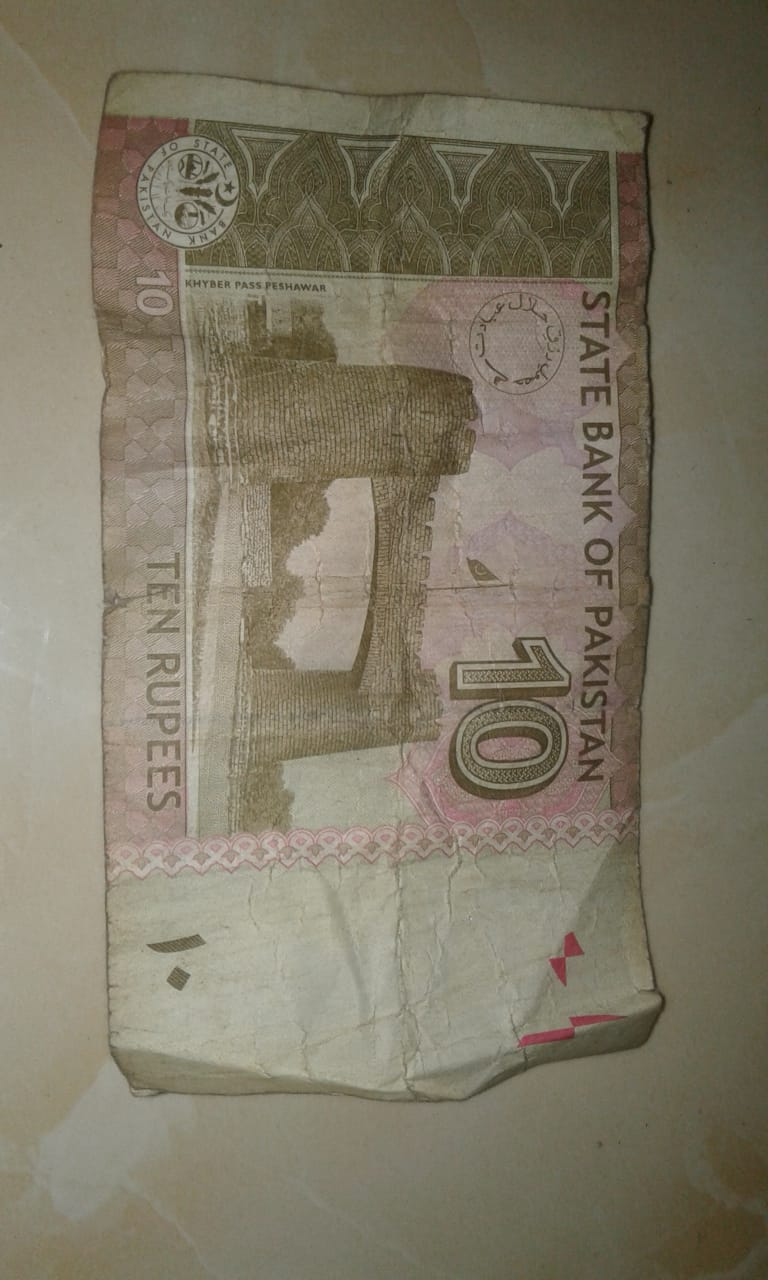10 rupee: (87, 65, 675, 1119)
